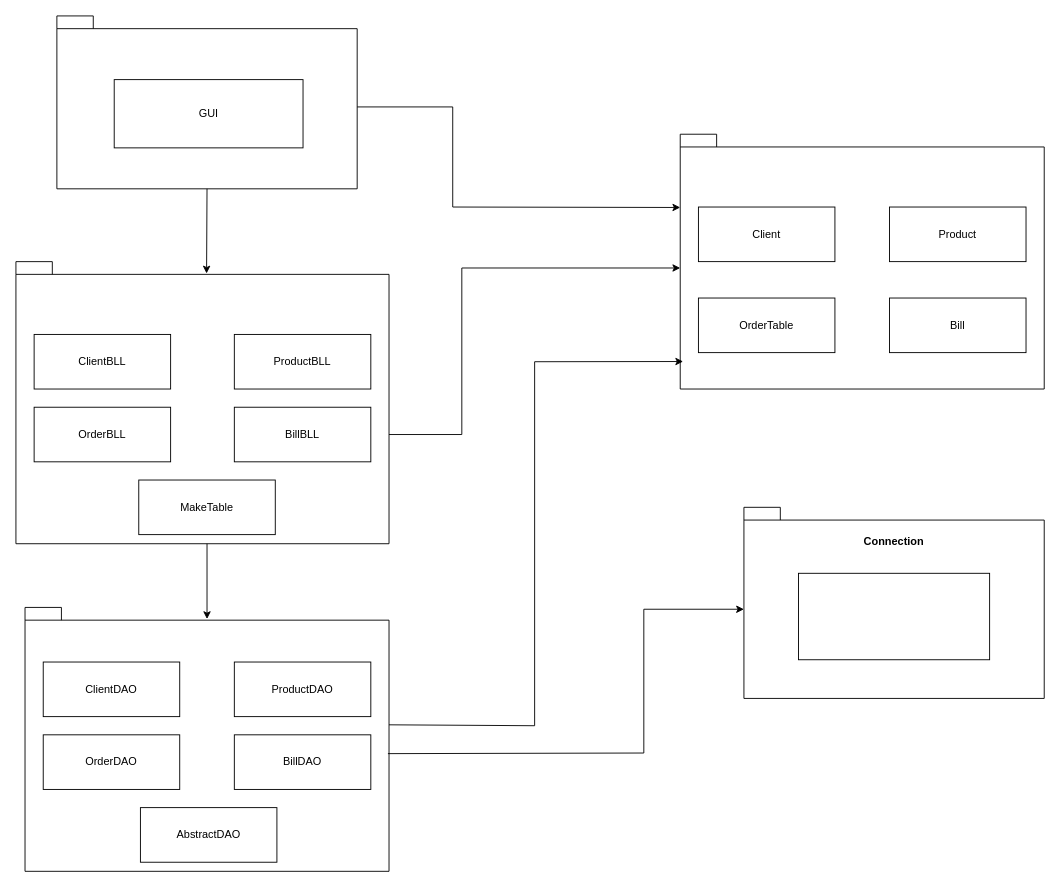
This 1060x887 diagram has some shape labels left out. The box of each missing label's shape, as (x1, y1, x2, y2) in pixels:
Buisiness Logic: (15, 261, 389, 544)
ConnectionFactory: (798, 572, 990, 660)
Data Access: (24, 607, 389, 871)
Data Model: (679, 133, 1044, 389)
Presentation: (56, 15, 357, 189)
